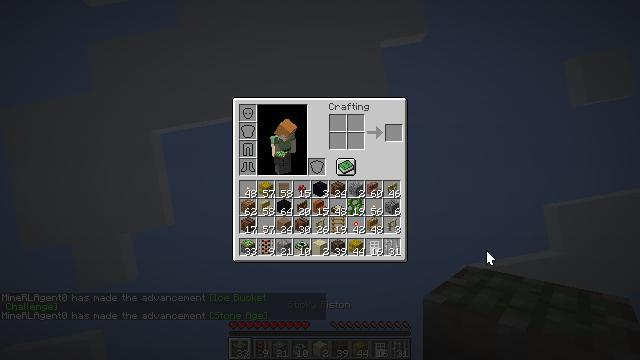cursor: (486, 250, 496, 266)
